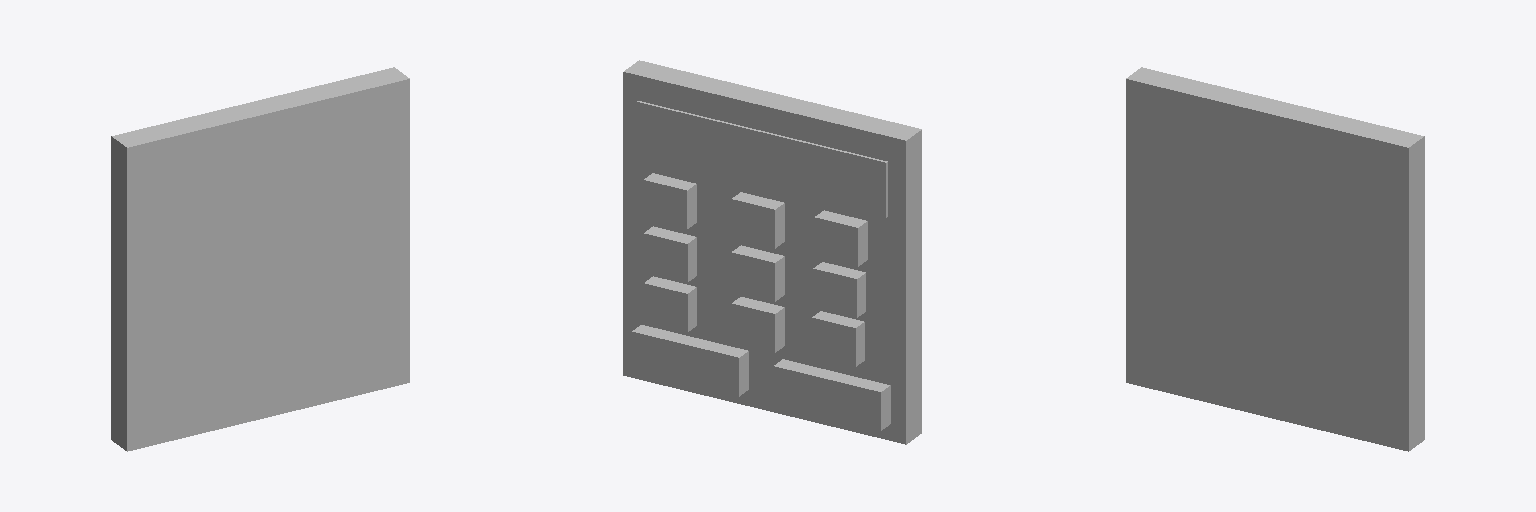
The model's file is display.obj.
3 views of the same model, side by side, from view 1: azimuth 30°, elevation 25°; view 2: azimuth 150°, elevation 25°; view 3: azimuth 330°, elevation 25° (orthographic).
Visible parts, largest first — view 1: Cube_Cube.001; view 2: Cube_Cube.001, Cube.001_Cube.002, Cube.010_Cube.012, Cube.007_Cube.008, Cube.003_Cube.004, Cube.004_Cube.005, Cube.008_Cube.009, Cube.009_Cube.010, Cube.005_Cube.006, Cube.006_Cube.007, Cube.002_Cube.003, Cube.011_Cube.013 (+1 smaller); view 3: Cube_Cube.001.
Part boxes in pixels (bbox=[...]): Cube_Cube.001: bbox=[111, 67, 409, 451]; Cube_Cube.001: bbox=[623, 60, 921, 444]; Cube.001_Cube.002: bbox=[637, 101, 887, 217]; Cube.010_Cube.012: bbox=[773, 359, 890, 430]; Cube.007_Cube.008: bbox=[632, 325, 748, 396]; Cube.003_Cube.004: bbox=[731, 192, 784, 248]; Cube.004_Cube.005: bbox=[814, 210, 867, 266]; Cube.008_Cube.009: bbox=[731, 245, 784, 301]; Cube.009_Cube.010: bbox=[731, 297, 784, 352]; Cube.005_Cube.006: bbox=[644, 226, 696, 282]; Cube.006_Cube.007: bbox=[644, 276, 696, 332]; Cube.002_Cube.003: bbox=[644, 173, 696, 228]; Cube.011_Cube.013: bbox=[813, 262, 865, 317]; Cube_Cube.001: bbox=[1126, 67, 1424, 451].
Size of the model in its own units: 1.01 by 1.04 by 0.1575.